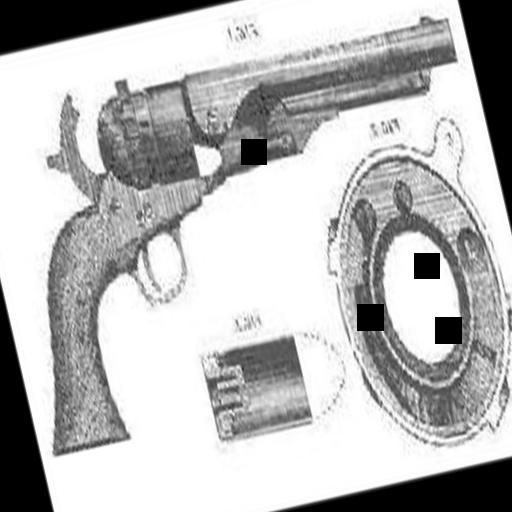Handgun: (0, 0, 512, 453)
